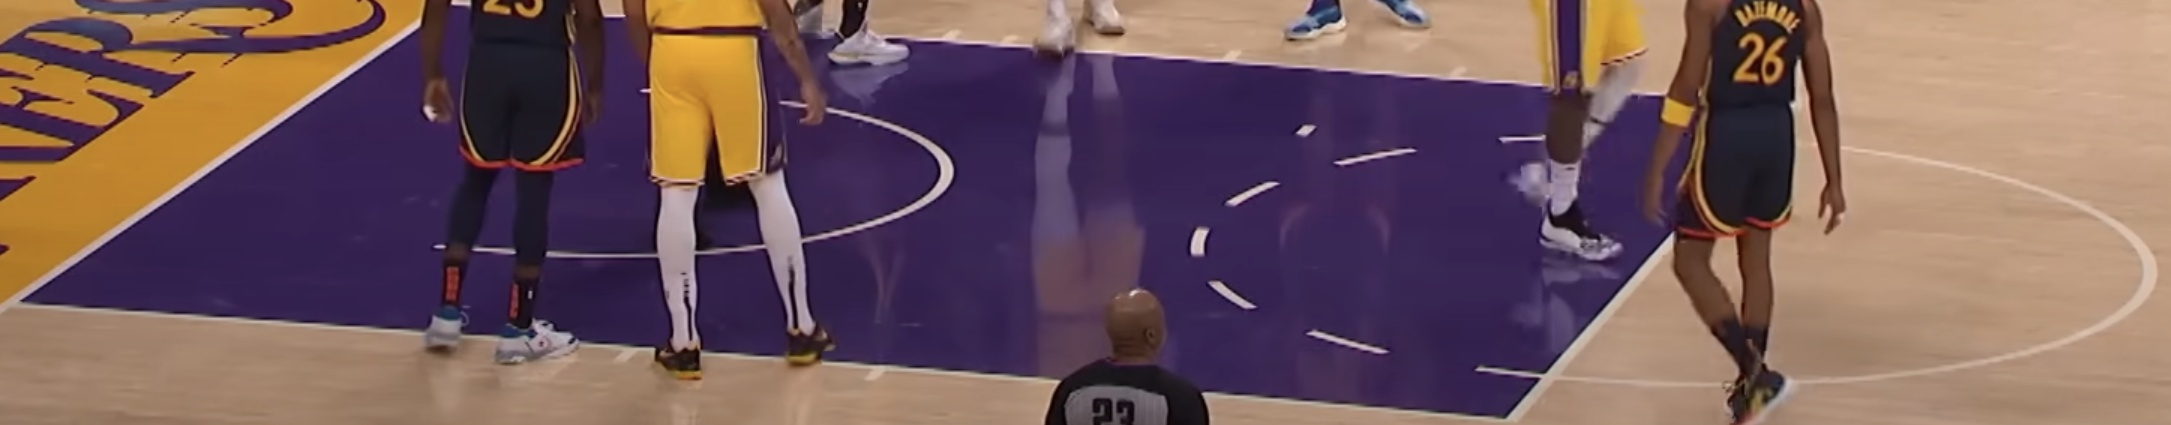endLine: (17, 8, 442, 300)
freeThrow: (1513, 107, 1783, 419)
lane: (17, 303, 1513, 424), (444, 6, 1783, 107)
